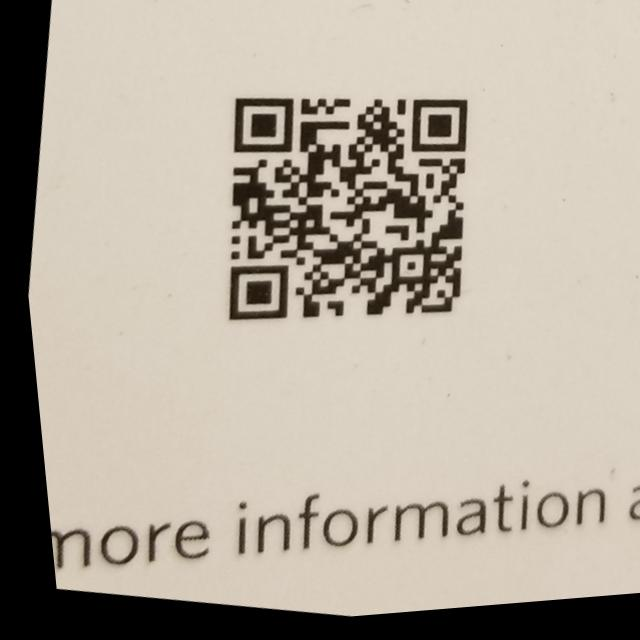QR_CODE: (168, 43, 514, 384)
